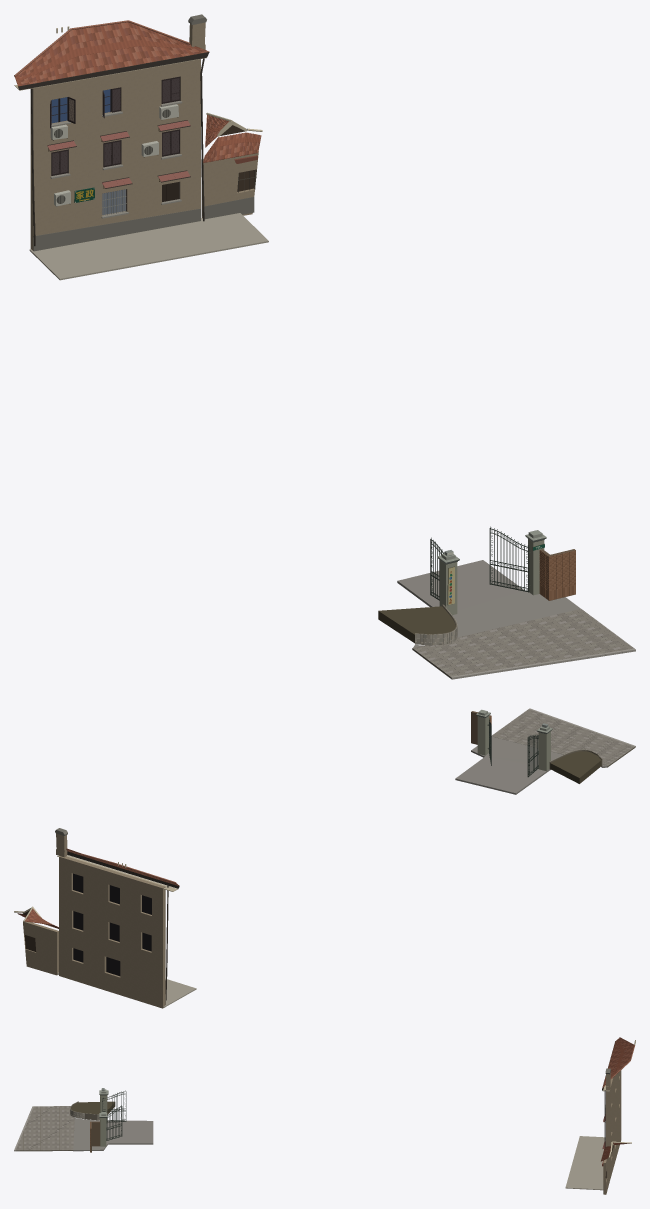
Rendered from huangpu-zhengjia-lane-39-street-gate-lod.glb.
3 renders of one model, top to bottom at view 1: azimuth 30°, elevation 25°; view 2: azimuth 150°, elevation 25°; view 3: azimuth 270°, elevation 25°, orthographic. The views are drawn at different scales.
Visible parts, largest first — view 1: 永嘉路39弄郑家衖弄口与院内横屋; view 2: 永嘉路39弄郑家衖弄口与院内横屋; view 3: 永嘉路39弄郑家衖弄口与院内横屋.
Part boxes in pixels (bbox=[...]): 永嘉路39弄郑家衖弄口与院内横屋: bbox=[14, 14, 635, 679]; 永嘉路39弄郑家衖弄口与院内横屋: bbox=[14, 708, 635, 1008]; 永嘉路39弄郑家衖弄口与院内横屋: bbox=[14, 1037, 635, 1194].
Bounding box in the file's own units: 19.15 × 10.98 × 55.47.
Materials: 62 (1 with a texture image).
